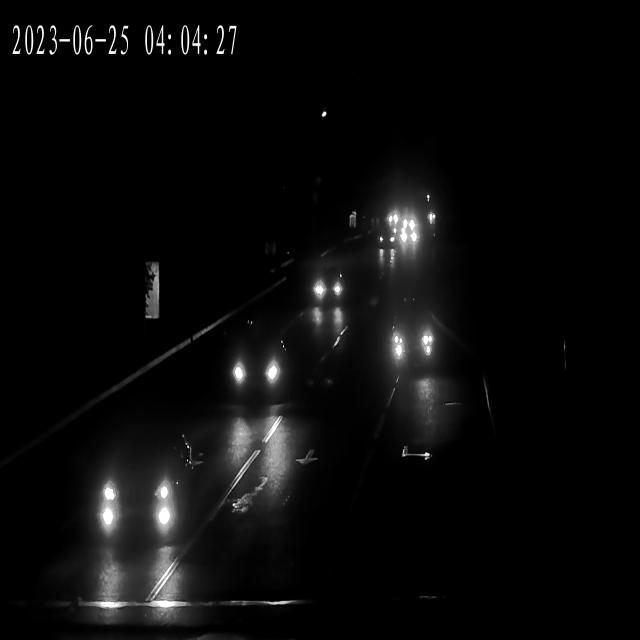Car: (88, 429, 191, 546), (224, 332, 292, 398), (386, 312, 440, 369), (308, 266, 349, 308), (373, 230, 396, 250), (376, 232, 398, 252), (399, 230, 419, 247), (399, 216, 419, 230), (383, 212, 401, 226)
